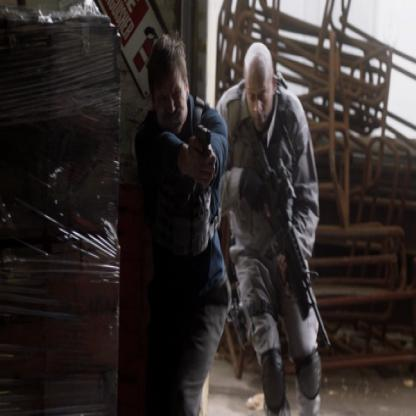Guns: (251, 136, 331, 350), (194, 120, 210, 178)
